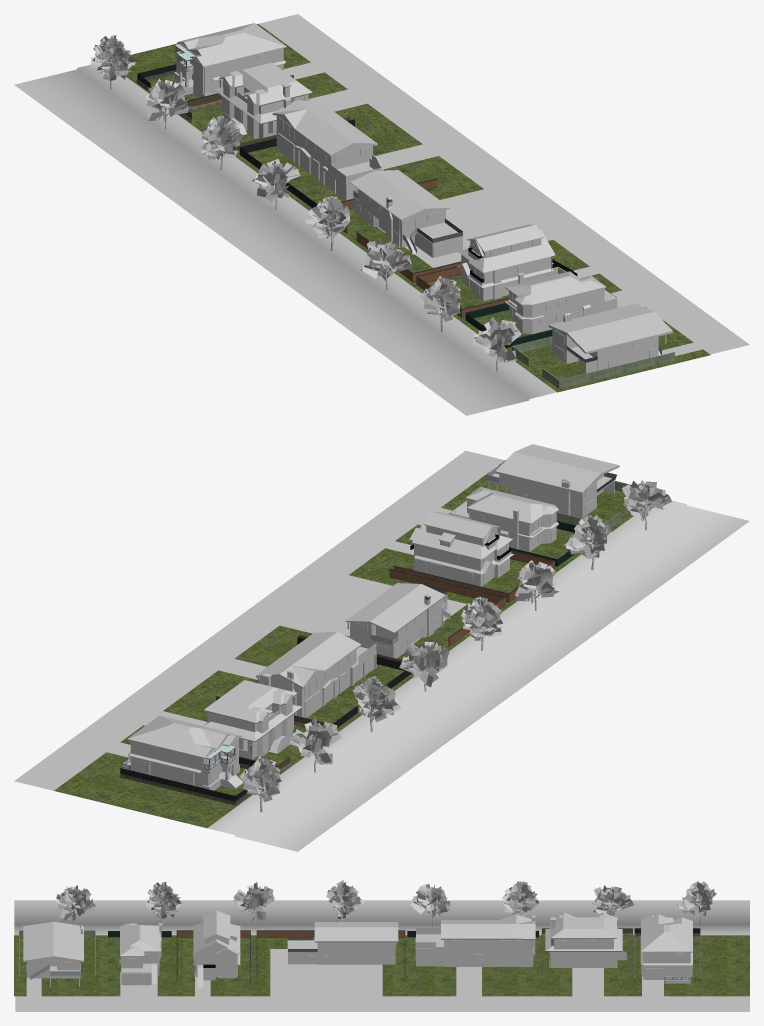
Rendered from house_set-1.FBX.
3 views of the same model, one above another, from view 1: azimuth 30°, elevation 25°; view 2: azimuth 150°, elevation 25°; view 3: azimuth 270°, elevation 25° (orthographic). The views are drawn at different scales.
Parts seen in each view (by area): view 1: Plane002, Plane001, Object003, house-3, house-4, Object005, house-7, house-5, house-1, house-6, house-2, Box035 (+13 smaller); view 2: Plane002, Plane001, Object003, house-1, house-7, house-3, house-5, house-2, house-4, Object005, house-6, Object008 (+10 smaller); view 3: Object003, Plane002, Plane001, Object005, house-3, house-4, house-2, house-1, house-7, house-5, house-6, Object010 (+11 smaller).
Boxes of the visible parts, box(x1,y1,x2,y2) form: Plane002: box(14, 64, 556, 415); Plane001: box(258, 14, 749, 354); Object003: box(125, 24, 710, 392); house-3: box(272, 98, 383, 200); house-4: box(350, 170, 463, 257); Object005: box(283, 62, 702, 355); house-7: box(548, 303, 672, 373); house-5: box(457, 224, 577, 301); house-1: box(174, 23, 286, 97); house-6: box(504, 271, 617, 333); house-2: box(213, 62, 312, 138); Box035: box(511, 336, 674, 388); Plane002: box(207, 500, 749, 851); Plane001: box(14, 450, 504, 790); Object003: box(54, 460, 643, 828); house-1: box(121, 715, 243, 790); house-7: box(486, 444, 619, 517); house-3: box(256, 631, 376, 717); house-5: box(409, 512, 513, 586); house-2: box(203, 673, 302, 759); house-4: box(345, 583, 450, 658); Object005: box(107, 465, 498, 757); house-6: box(449, 487, 558, 552); Object008: box(399, 639, 449, 691); Object003: box(14, 935, 749, 996); Plane002: box(14, 900, 749, 935); Plane001: box(15, 996, 749, 1011); Object005: box(26, 949, 663, 996); house-3: box(415, 914, 535, 967); house-4: box(287, 914, 398, 964); house-2: box(545, 912, 626, 967); house-1: box(640, 914, 692, 983); house-7: box(23, 921, 83, 986); house-5: box(193, 910, 240, 987); house-6: box(119, 923, 161, 985); Object010: box(233, 882, 274, 926).
Size of the model in its own units: 2517 by 6947 by 471.
